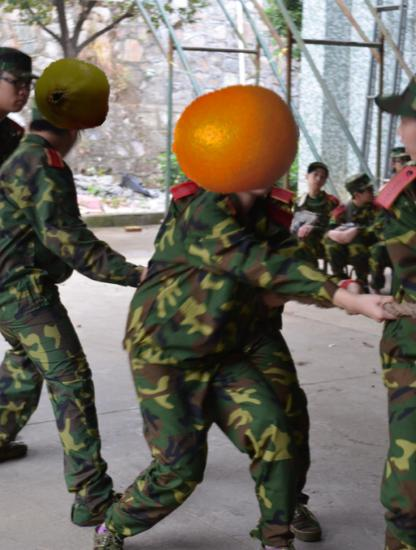Apple: (34, 55, 115, 136)
Grapefruit: (172, 76, 301, 205)
